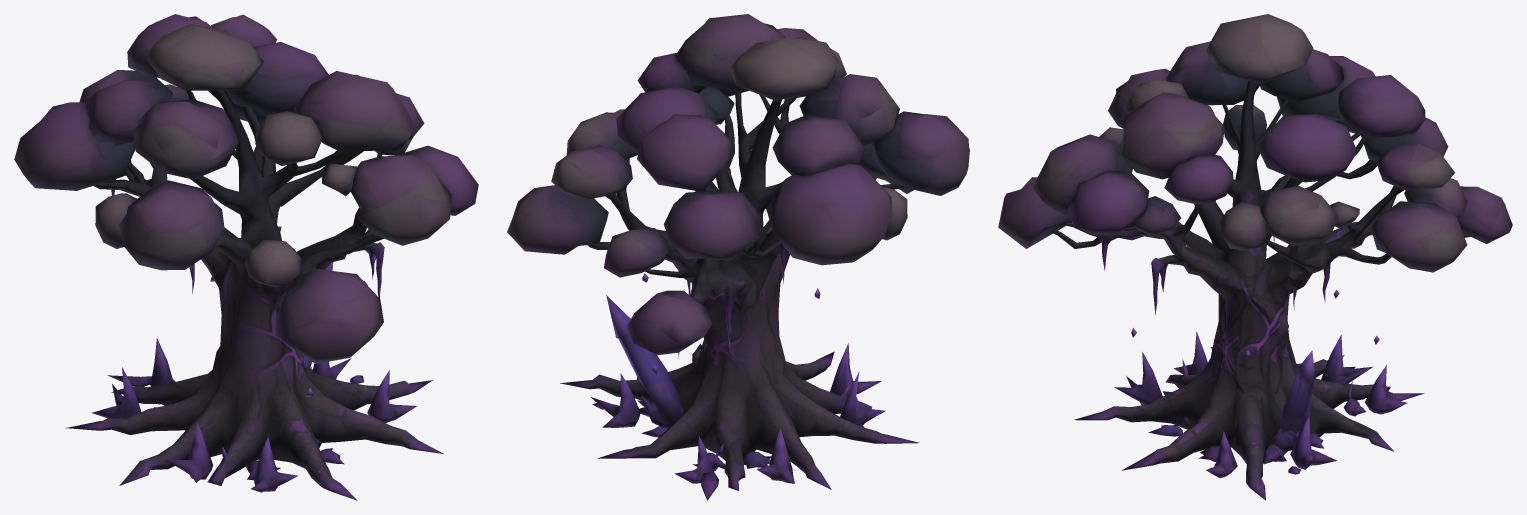
Rendered from SM_Vegetation_PurpleCrystalTree_02.fbx.
3 renders of one model, left to right at view 1: azimuth 30°, elevation 25°; view 2: azimuth 150°, elevation 25°; view 3: azimuth 270°, elevation 25°, orthographic. The views are drawn at different scales.
Visible parts, largest first — view 1: SM_Vegetation_PurpleCrystalTree_02; view 2: SM_Vegetation_PurpleCrystalTree_02; view 3: SM_Vegetation_PurpleCrystalTree_02.
Part boxes in pixels (box(x1,y1,x2,y2)): SM_Vegetation_PurpleCrystalTree_02: box(14, 14, 478, 500); SM_Vegetation_PurpleCrystalTree_02: box(507, 14, 969, 500); SM_Vegetation_PurpleCrystalTree_02: box(998, 14, 1512, 500).
Size of the model in its own units: 0.7676 by 0.8184 by 0.998.
1 material, 1 textured.
